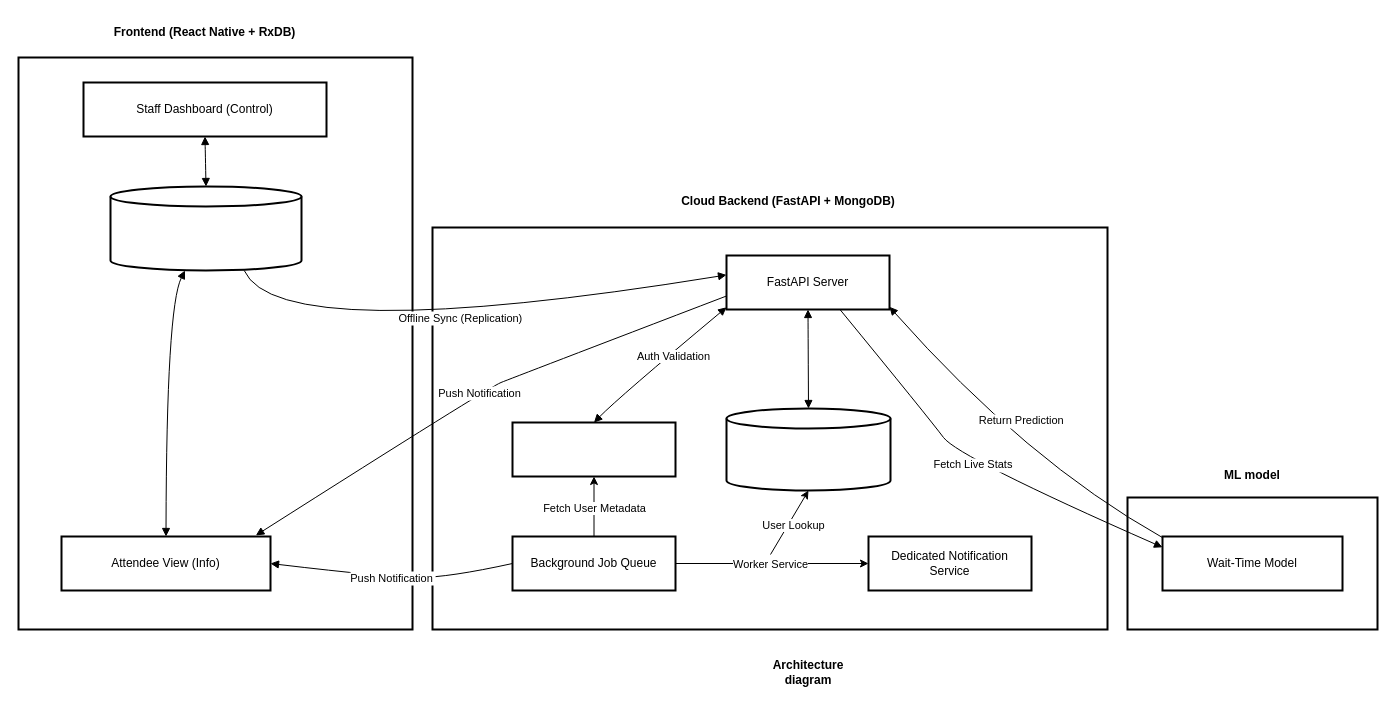
Some shapes in this 1395 by 704 pixel diagram are drawn without their labels. Here are the shapes that lost their labels. From the top down, the centre of each, then its label:
At (205,228): "Local SQLite/RxDB Store".
At (593,449): "Supabase Auth".
At (808,449): "MongoDB Atlas Cloud".
